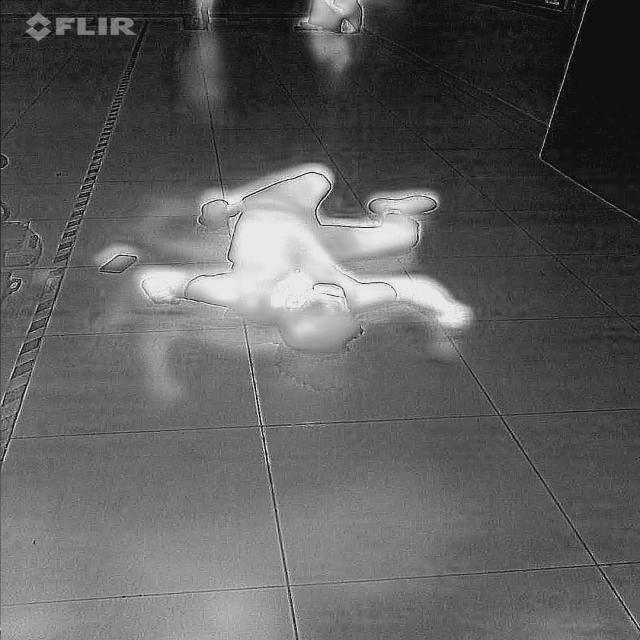Victim: (130, 154, 482, 356), (290, 0, 371, 36)
